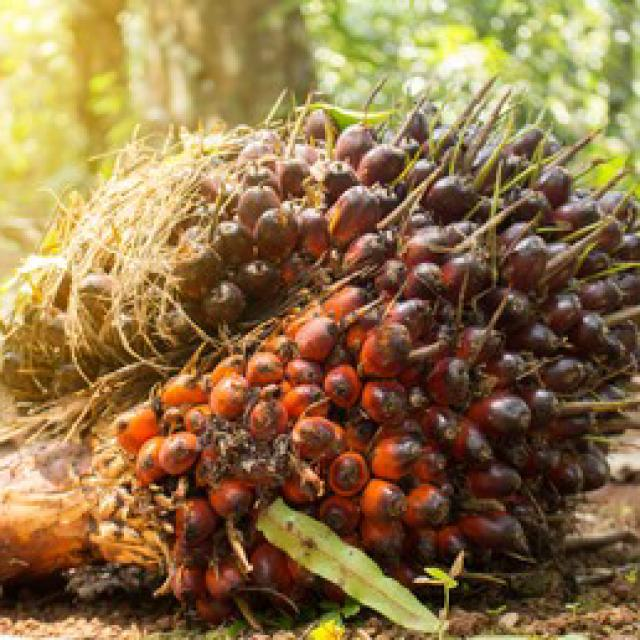FFB: (34, 129, 640, 617)
